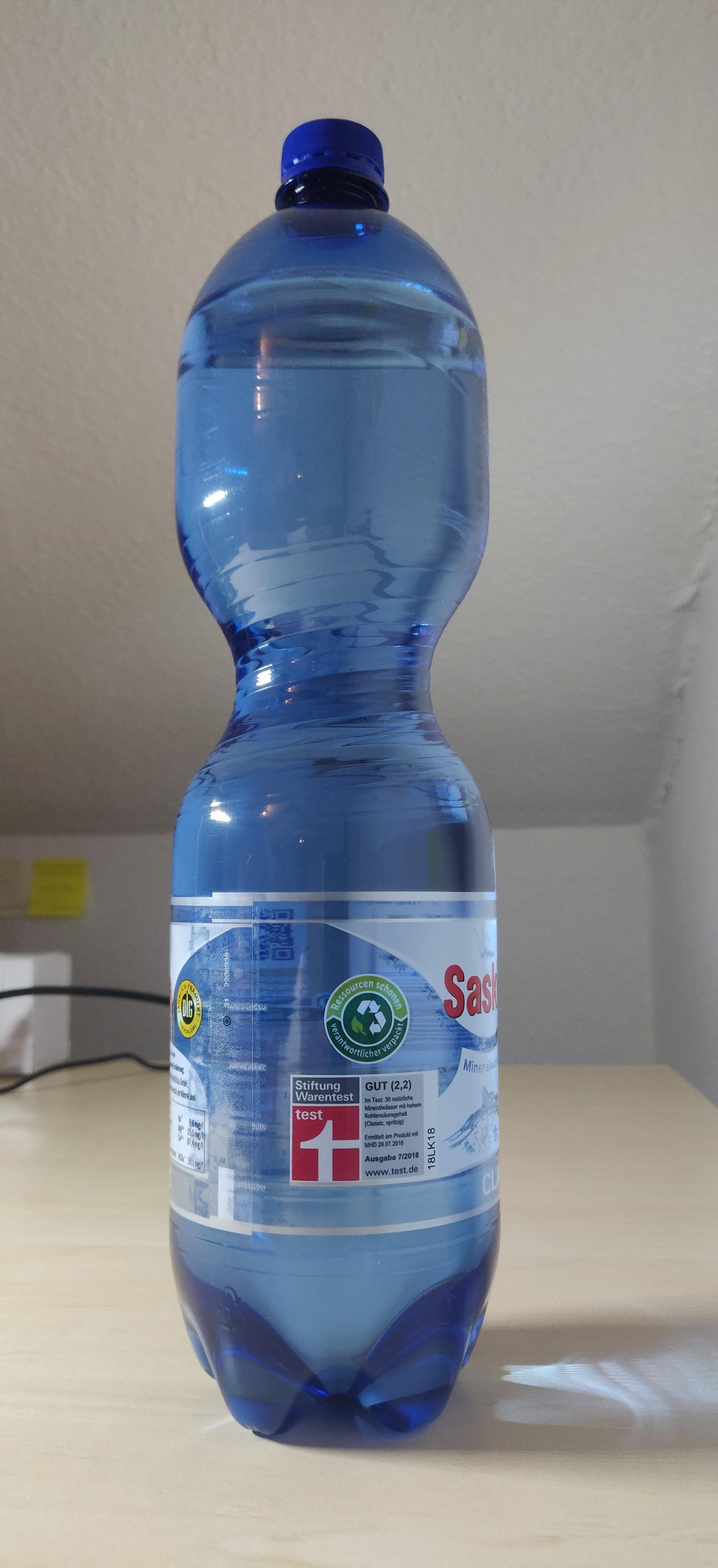bottle-plastic: (170, 118, 498, 1445)
